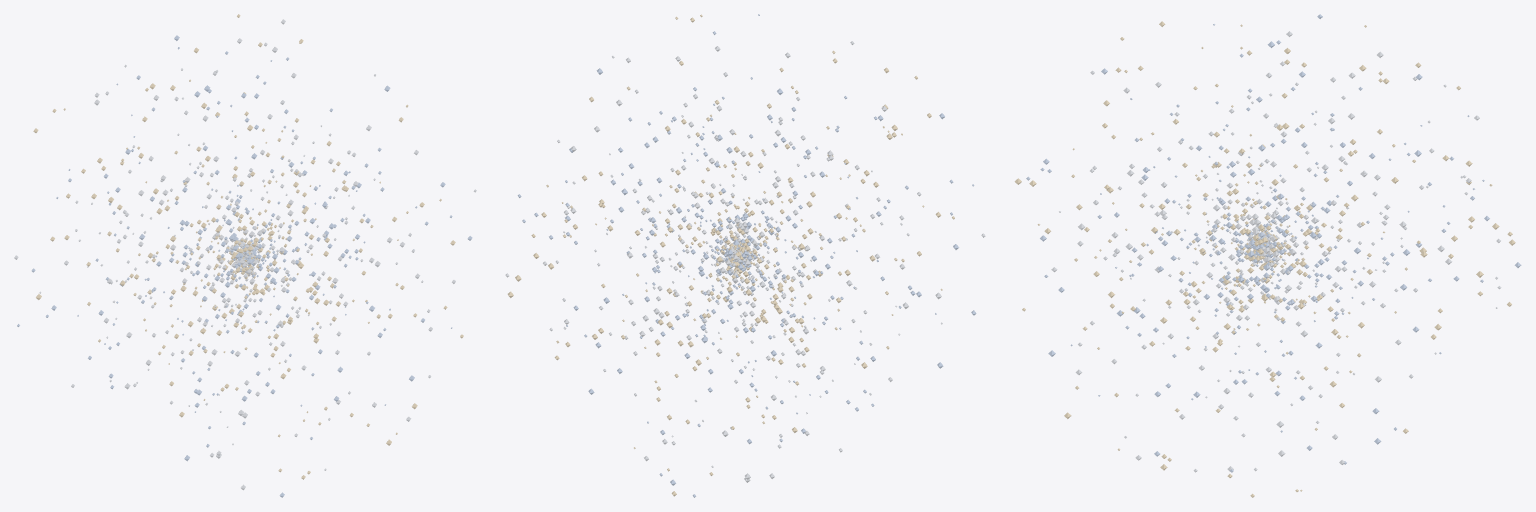
The picture shows the model from 3 angles, left to right: view 1: azimuth 30°, elevation 25°; view 2: azimuth 150°, elevation 25°; view 3: azimuth 270°, elevation 25°; orthographic projection. The views are drawn at different scales.
Size of the model in its own units: 4.74 by 5.07 by 5.06.
